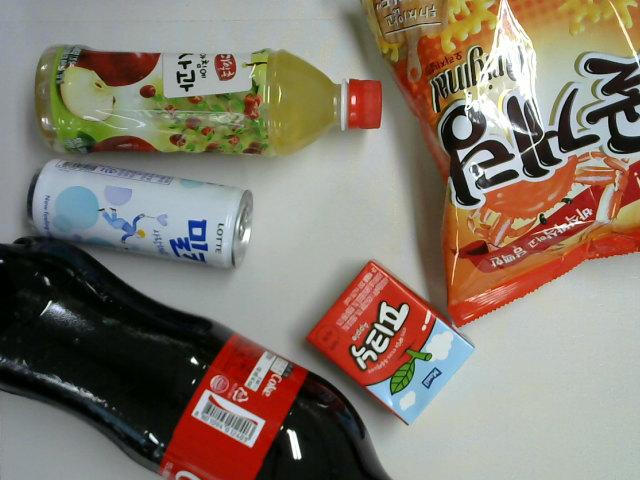Coca_Cola_1.5L: (1, 237, 392, 479)
Crabrang: (359, 1, 640, 328)
Milkies_250ml: (23, 159, 254, 271)
Morning_Apple_500ml: (36, 45, 383, 158)
Picnic_Apple: (305, 259, 475, 425)
